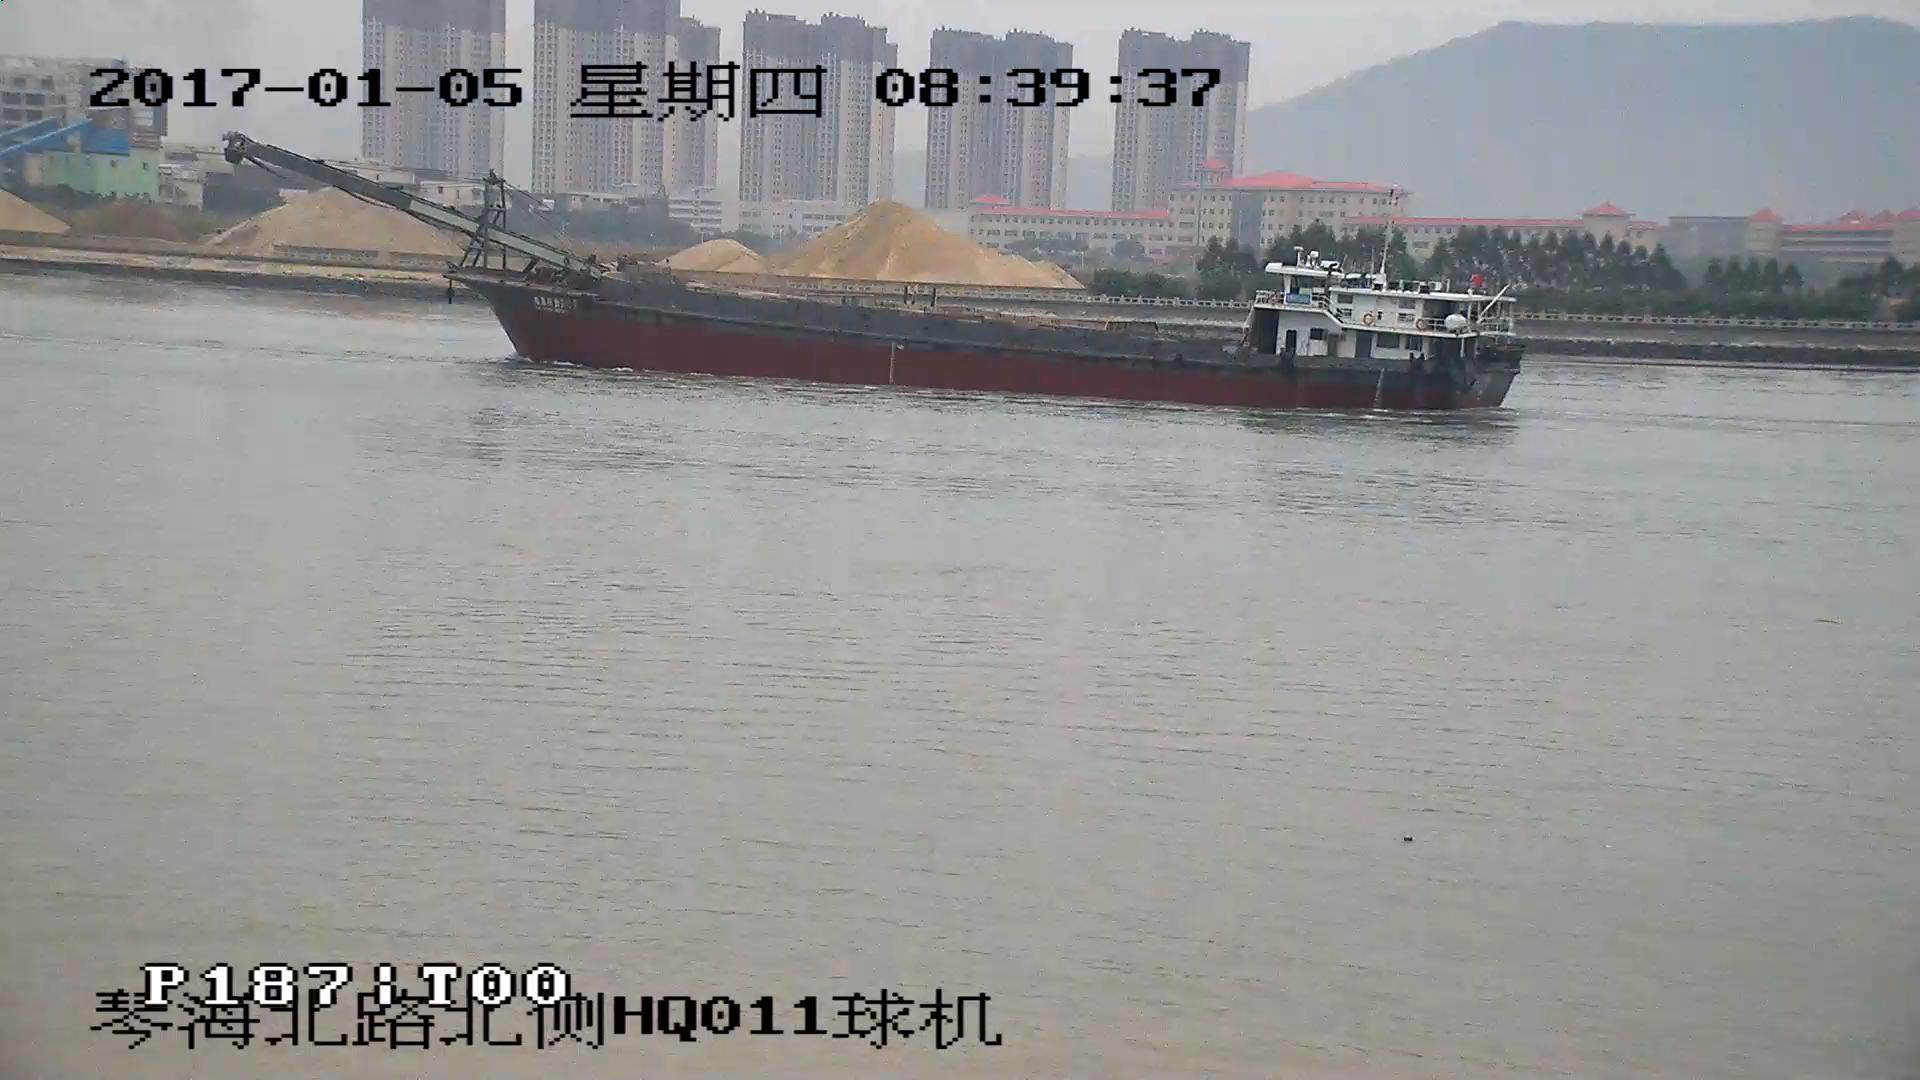bulk cargo carrier: (225, 138, 1526, 411)
